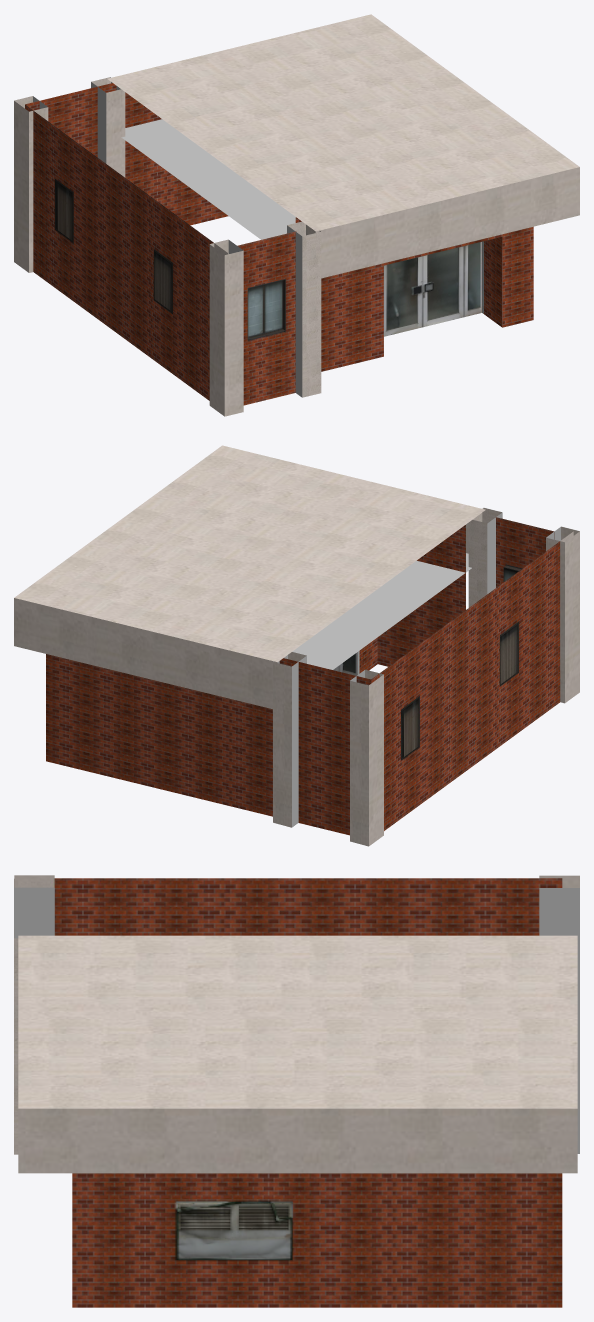
The model's file is building01_1f_02todoke.fbx.
3 renders of one model, top to bottom at view 1: azimuth 30°, elevation 25°; view 2: azimuth 150°, elevation 25°; view 3: azimuth 270°, elevation 25°, orthographic. The views are drawn at different scales.
Visible parts, largest first — view 1: polySurface5, polySurface6, huti1lf, huti1rf, huti1lb, huti1rb; view 2: polySurface5, polySurface6, huti1lb, huti1rb, huti1lf, huti1rf; view 3: polySurface5, polySurface6, huti1lb, huti1lf, huti1rf, huti1rb.
Boxes of the visible parts, x1,y1,x2,y2 form: polySurface5: (107, 14, 579, 278); polySurface6: (25, 83, 533, 405); huti1lf: (209, 239, 243, 416); huti1rf: (287, 221, 321, 397); huti1lb: (14, 96, 48, 272); huti1rb: (91, 77, 125, 177); polySurface5: (14, 445, 485, 709); polySurface6: (46, 517, 573, 835); huti1lb: (350, 669, 383, 846); huti1rb: (273, 652, 306, 827); huti1lf: (546, 526, 579, 703); huti1rf: (468, 508, 502, 607); polySurface5: (18, 935, 577, 1173); polySurface6: (18, 878, 562, 1307); huti1lb: (539, 875, 579, 925); huti1lf: (14, 875, 54, 928); huti1rf: (14, 926, 54, 1154); huti1rb: (539, 926, 579, 1153).
Bounding box in the file's own units: 812 × 351 × 832.
